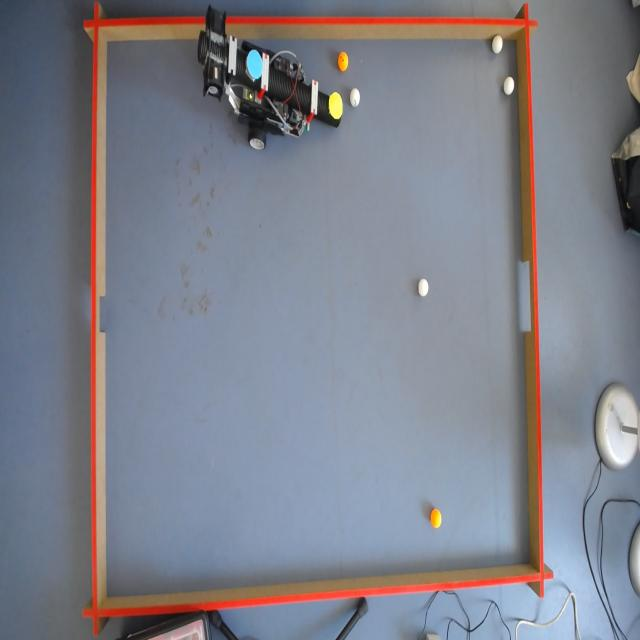orange: (337, 52, 348, 73)
robot: (197, 4, 342, 150)
robot-front: (328, 93, 344, 119)
robot-rear: (245, 47, 263, 81)
white: (502, 75, 516, 96), (490, 36, 504, 56), (431, 508, 443, 530), (416, 277, 429, 297), (348, 88, 358, 106)
